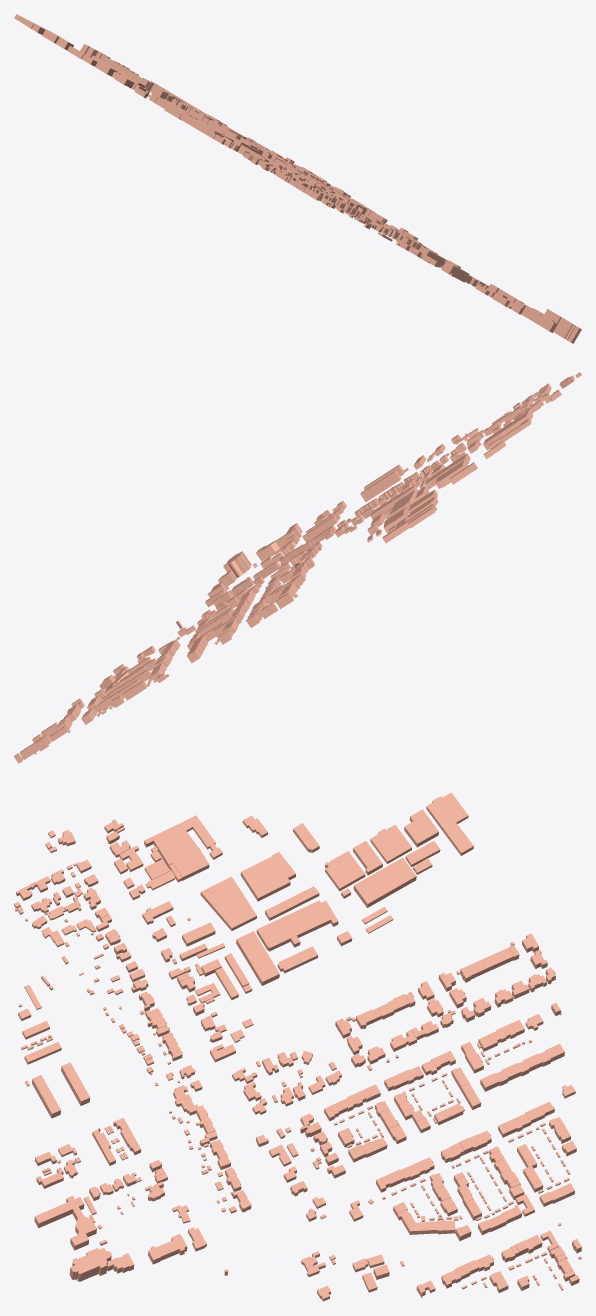
3 views of the same model, one above another, from view 1: azimuth 30°, elevation 25°; view 2: azimuth 150°, elevation 25°; view 3: azimuth 270°, elevation 25° (orthographic). The views are drawn at different scales.
Bounding box in the file's own units: 514 × 388 × 630.
